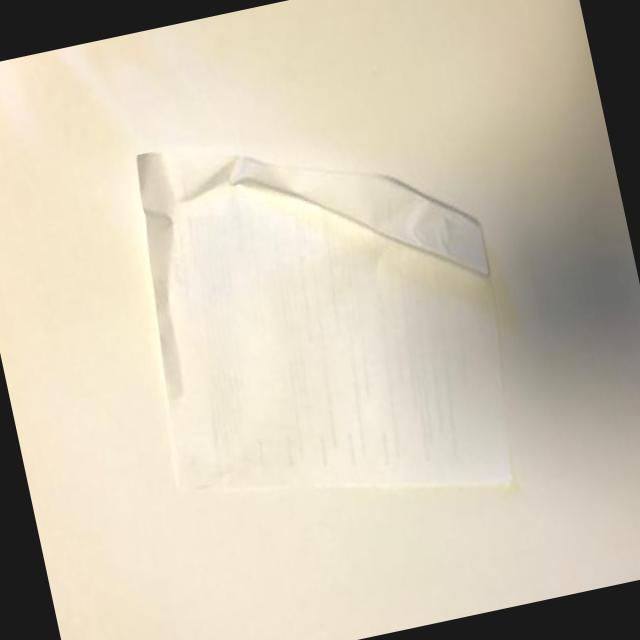paper: (120, 97, 561, 590)
